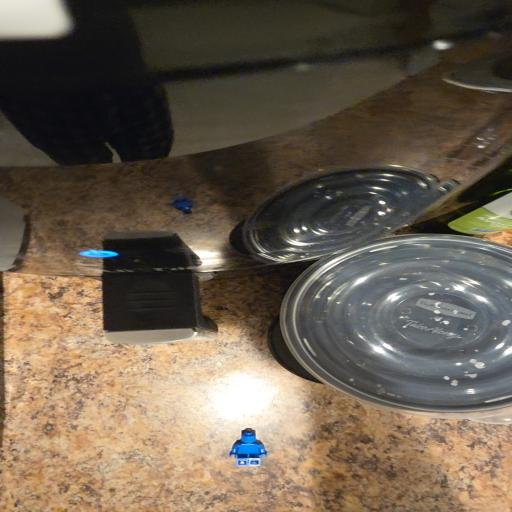Blue: (229, 429, 267, 467)
